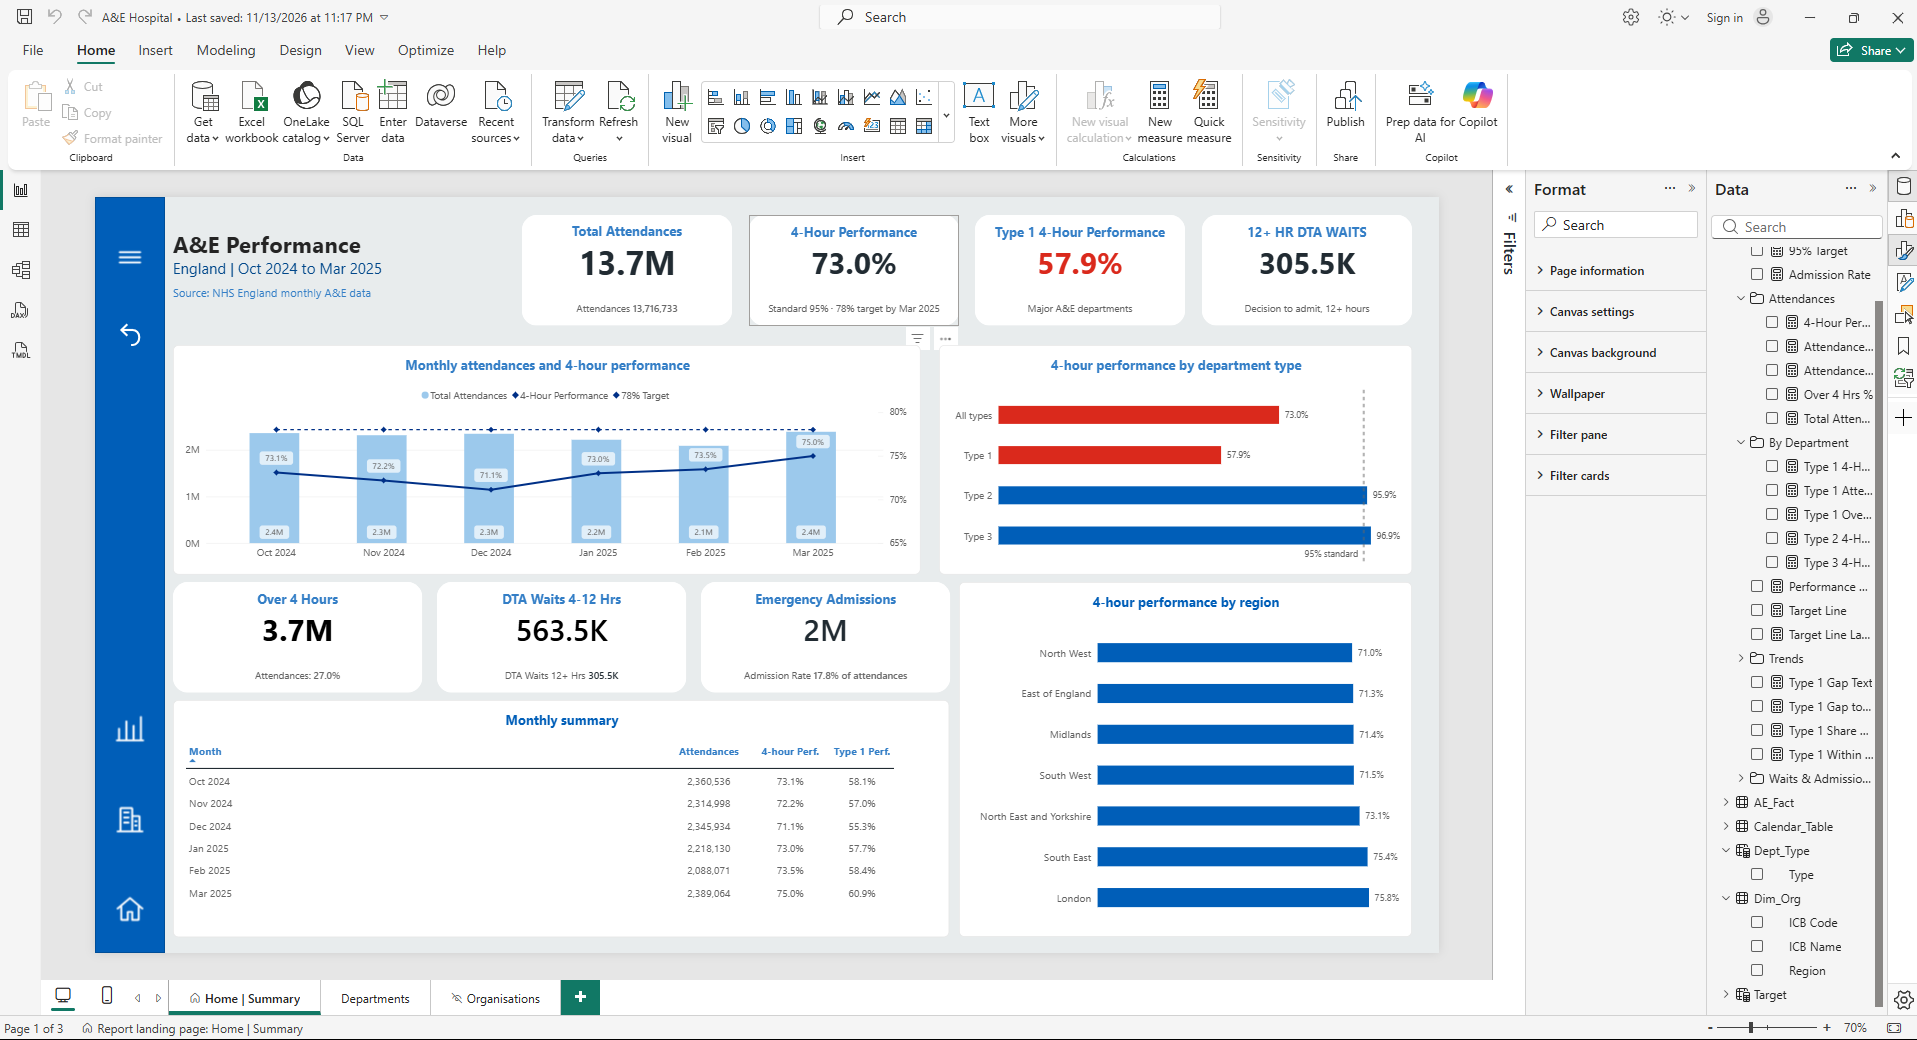

The page's visual inventory and layout, read from the dashboard file:
{"tool":"powerbi","page":{"name":"Home | Summary","canvas":[1920,1080],"ordinal":0},"visuals":[{"type":"shape","box":[0,0,100,1080],"z":0},{"type":"textbox","box":[112,44,401.3,42.7],"z":1000},{"type":"textbox","box":[112,86.7,401.3,38.7],"z":2000},{"type":"textbox","box":[112,125.3,401.3,42.7],"z":3000},{"type":"cardVisual","fields":{"Data":["Measure_Table.Total Attendances"]},"box":[610.7,25.3,300,158.7],"z":4000},{"type":"cardVisual","fields":{"Data":["Measure_Table.4-Hour Performance"]},"box":[934.2,25.3,300,158.7],"z":5000},{"type":"cardVisual","fields":{"Data":["Measure_Table.Type 1 4-Hour Performance"]},"box":[1257.8,25.3,300,158.7],"z":6000},{"type":"cardVisual","fields":{"Data":["Measure_Table.DTA Waits 12+ Hrs"]},"box":[1581.4,25.7,300,158.7],"z":7000},{"type":"lineClusteredColumnComboChart","title":"Monthly attendances and 4-hour performance","fields":{"Category":["Calendar_Table.Month Year"],"Y":["Measure_Table.Total Attendances"],"Y2":["Measure_Table.4-Hour Performance","Measure_Table.78% Target"]},"box":[112,212,1068,328],"z":8000},{"type":"clusteredBarChart","title":"4-hour performance by department type","fields":{"Category":["Dept_Type.Type"],"Y":["Measure_Table.Performance by Type"]},"box":[1205.3,212,676,328],"z":9000},{"type":"cardVisual","fields":{"Data":["Measure_Table.DTA Waits 4-12 Hrs"]},"box":[488.7,550.7,356,158.7],"z":10000},{"type":"cardVisual","fields":{"Data":["Measure_Table.Emergency Admissions via A&E"]},"box":[865.3,550.7,356,158.7],"z":11000},{"type":"cardVisual","fields":{"Data":["Measure_Table.Attendances Over 4 Hrs"]},"box":[112,550.7,356,158.7],"z":12000},{"type":"tableEx","title":"Monthly summary","fields":{"Values":["Calendar_Table.Month Year","Measure_Table.Total Attendances","Measure_Table.4-Hour Performance","Measure_Table.Type 1 4-Hour Performance"]},"box":[112,718.7,1109.3,338.7],"z":13000},{"type":"clusteredBarChart","title":"4-hour performance by region","fields":{"Category":["Dim_Org.Region"],"Y":["Measure_Table.4-Hour Performance"]},"box":[1234.7,550.7,646.7,506.7],"z":14000},{"type":"actionButton","box":[0,157.1,100,78.6],"z":15000},{"type":"actionButton","box":[0,718.6,100,80],"z":16000},{"type":"actionButton","box":[0,847.9,100,80],"z":17000},{"type":"actionButton","box":[0,977.1,100,80],"z":18000},{"type":"actionButton","title":"Hamburger","box":[0,47.1,100,78.6],"z":19000}]}

Visuals, with their boxes on the page's 1920x1080 design canvas (x1, y1, x2, y2). These are canvas units, not pixel positions in the 1917x1040 screenshot, which may show the page scaled, cropped or inside an application window:
shape: locate(0, 0, 100, 1080)
textbox: locate(112, 44, 513, 87)
textbox: locate(112, 87, 513, 125)
textbox: locate(112, 125, 513, 168)
cardVisual - Measure_Table.Total Attendances: locate(611, 25, 911, 184)
cardVisual - Measure_Table.4-Hour Performance: locate(934, 25, 1234, 184)
cardVisual - Measure_Table.Type 1 4-Hour Performance: locate(1258, 25, 1558, 184)
cardVisual - Measure_Table.DTA Waits 12+ Hrs: locate(1581, 26, 1881, 184)
"Monthly attendances and 4-hour performance" lineClusteredColumnComboChart: locate(112, 212, 1180, 540)
"4-hour performance by department type" clusteredBarChart: locate(1205, 212, 1881, 540)
cardVisual - Measure_Table.DTA Waits 4-12 Hrs: locate(489, 551, 845, 709)
cardVisual - Measure_Table.Emergency Admissions via A&E: locate(865, 551, 1221, 709)
cardVisual - Measure_Table.Attendances Over 4 Hrs: locate(112, 551, 468, 709)
"Monthly summary" tableEx: locate(112, 719, 1221, 1057)
"4-hour performance by region" clusteredBarChart: locate(1235, 551, 1881, 1057)
actionButton: locate(0, 157, 100, 236)
actionButton: locate(0, 719, 100, 799)
actionButton: locate(0, 848, 100, 928)
actionButton: locate(0, 977, 100, 1057)
"Hamburger" actionButton: locate(0, 47, 100, 126)
